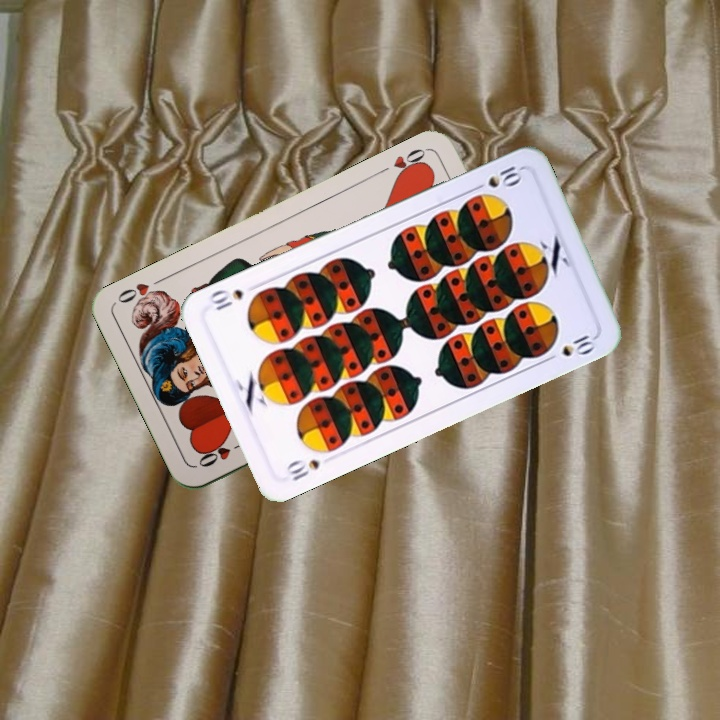HO: (373, 144, 430, 183), (194, 437, 249, 470)
S10: (468, 162, 525, 194), (282, 455, 323, 484)
